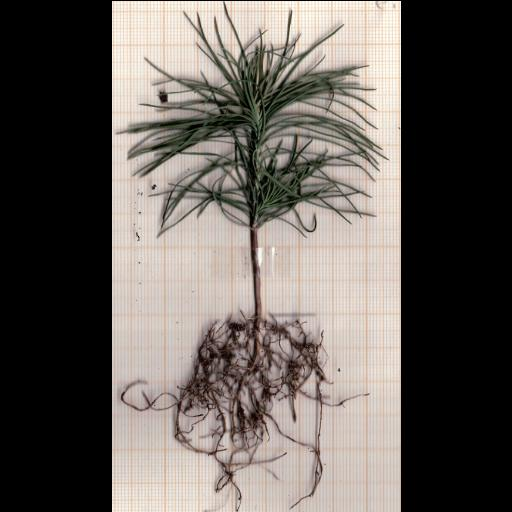flowerCedr: (123, 60, 382, 235), (184, 1, 341, 62)
rootCedr: (121, 316, 357, 511)
stemCedr: (249, 227, 260, 324)
